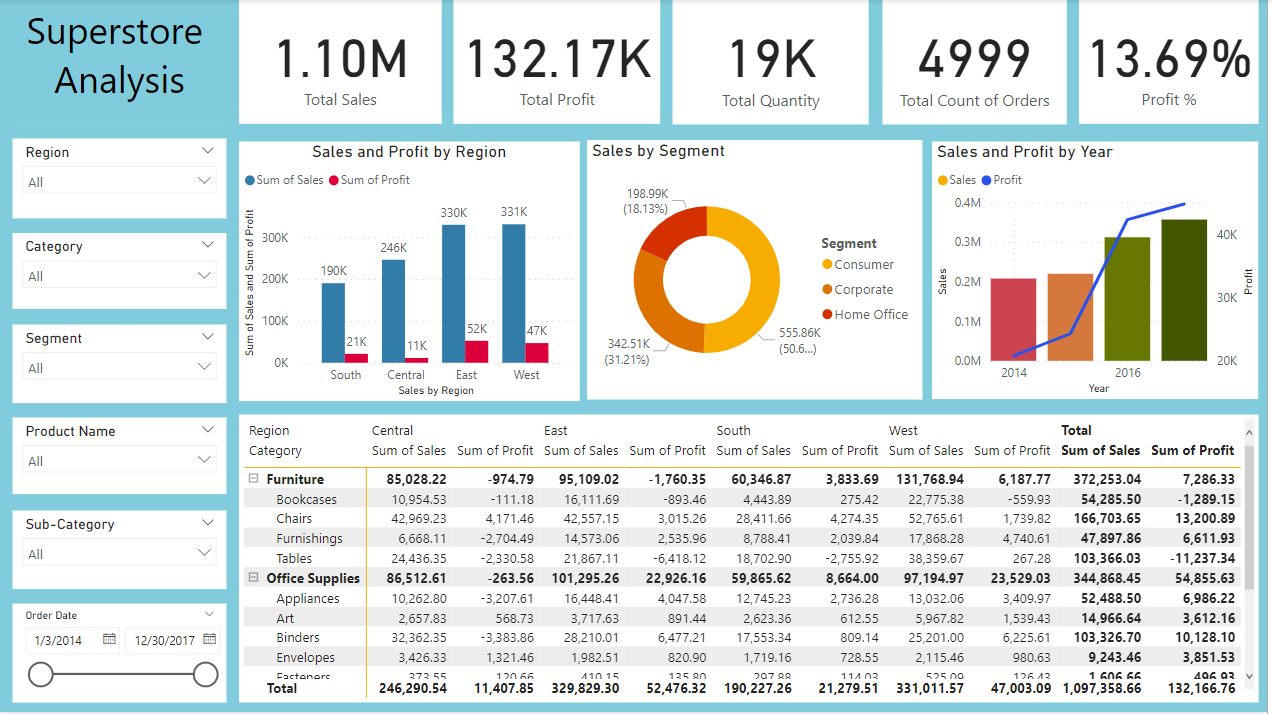

This screenshot's page, from the dashboard's own definition file:
{"tool":"powerbi","page":{"name":"Overview","canvas":[1280,720],"ordinal":0},"visuals":[{"type":"clusteredColumnChart","title":"Sales and Profit by Region","fields":{"Category":["Sample - Superstore.Region"],"Y":["Sum(Sample - Superstore.Sales)","Sum(Sample - Superstore.Profit)"]},"box":[241.8,143.6,343.7,262.1],"z":0},{"type":"card","fields":{"Values":["Sum(Sample - Superstore.Sales)"]},"box":[241.7,0.6,204.4,125.8],"z":1000},{"type":"card","fields":{"Values":["Sum(Sample - Superstore.Profit)"]},"box":[458.9,0,208.7,125.8],"z":2000},{"type":"textbox","box":[12.9,0,216.1,125.8],"z":3000},{"type":"slicer","fields":{"Values":["Sample - Superstore.Region"]},"box":[12.9,141.1,216.1,80.4],"z":4000},{"type":"slicer","fields":{"Values":["Sample - Superstore.Segment"]},"box":[12.9,328.7,216.1,79.2],"z":5000},{"type":"slicer","fields":{"Values":["Sample - Superstore.Sub-Category"]},"box":[12.9,515.7,216.1,79.2],"z":6000},{"type":"card","fields":{"Values":["Sum(Sample - Superstore.Quantity)"]},"box":[680.3,0,198.3,126.4],"z":7000},{"type":"slicer","fields":{"Values":["Sample - Superstore.Order Date"]},"box":[12.9,610.1,216.1,100.1],"z":8000},{"type":"card","fields":{"Values":["Category.Count_of_Orders"]},"box":[891.4,0,186,126.4],"z":9000},{"type":"slicer","fields":{"Values":["Category.Category"]},"box":[12.9,236.7,216.1,76.7],"z":10000},{"type":"slicer","fields":{"Values":["Sample - Superstore.Product Name"]},"box":[12.9,423.1,216.1,77.3],"z":11000},{"type":"lineClusteredColumnComboChart","fields":{"Y2":["Sum(Sample - Superstore.Profit)"],"Y":["Sum(Sample - Superstore.Sales)"],"Category":["Sample - Superstore.Order Date.Variation.Date Hierarchy.Year","Sample - Superstore.Order Date.Variation.Date Hierarchy.Quarter","Sample - Superstore.Order Date.Variation.Date Hierarchy.Month","Sample - Superstore.Order Date.Variation.Date Hierarchy.Day"]},"box":[941.6,143.6,329.6,260.3],"z":12000},{"type":"card","fields":{"Values":["Category.Profit %"]},"box":[1090.1,0,181.1,125.8],"z":13000},{"type":"pivotTable","fields":{"Rows":["Category.Category","Sample - Superstore.Sub-Category"],"Columns":["Sample - Superstore.Region"],"Values":["Sum(Sample - Superstore.Sales)","Sum(Sample - Superstore.Profit)"]},"box":[241.8,419.2,1029.4,290.9],"z":14000},{"type":"donutChart","title":"Sales by Segment","fields":{"Y":["Sum(Sample - Superstore.Sales)"],"Category":["Sample - Superstore.Segment"]},"box":[594.2,142.4,338.8,262.1],"z":15000}]}

Visuals, with their boxes in screenshot pixels (x1, y1, x2, y2), scaled from the page's 1280x720 canvas onto the 1272x714 screenshot:
"Sales and Profit by Region" clusteredColumnChart: 240/142/582/402
card - Sum(Sample - Superstore.Sales): 240/1/443/125
card - Sum(Sample - Superstore.Profit): 456/0/663/125
textbox: 13/0/228/125
slicer - Sample - Superstore.Region: 13/140/228/220
slicer - Sample - Superstore.Segment: 13/326/228/405
slicer - Sample - Superstore.Sub-Category: 13/511/228/590
card - Sum(Sample - Superstore.Quantity): 676/0/873/125
slicer - Sample - Superstore.Order Date: 13/605/228/704
card - Category.Count_of_Orders: 886/0/1071/125
slicer - Category.Category: 13/235/228/311
slicer - Sample - Superstore.Product Name: 13/420/228/496
lineClusteredColumnComboChart - Sum(Sample - Superstore.Profit) x Sum(Sample - Superstore.Sales): 936/142/1263/401
card - Category.Profit %: 1083/0/1263/125
pivotTable - Category.Category x Sample - Superstore.Sub-Category: 240/416/1263/704
"Sales by Segment" donutChart: 590/141/927/401
